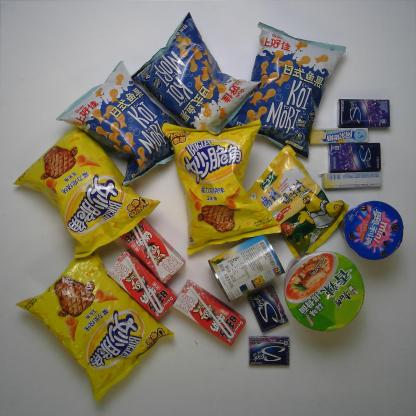Candy: (318, 171, 383, 190), (308, 126, 369, 146)
Canned Food: (208, 236, 286, 304)
Dessert: (337, 198, 406, 262)
Gum: (247, 284, 290, 332), (336, 97, 392, 129), (327, 141, 381, 172), (249, 335, 291, 367)
Instant Noodles: (283, 250, 365, 332)
Milk: (106, 248, 178, 320), (171, 279, 247, 345), (119, 217, 187, 285)
Puffed Food: (14, 252, 176, 404), (11, 126, 162, 260), (225, 21, 348, 160), (161, 119, 281, 256), (130, 11, 262, 134), (55, 61, 175, 187)
Seasoner: (247, 144, 350, 259)
